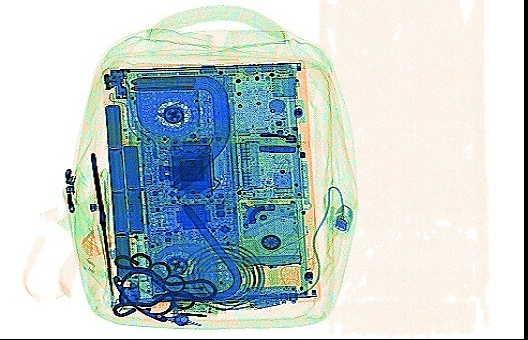knife: (86, 151, 116, 304)
slingshot: (108, 250, 218, 316)
